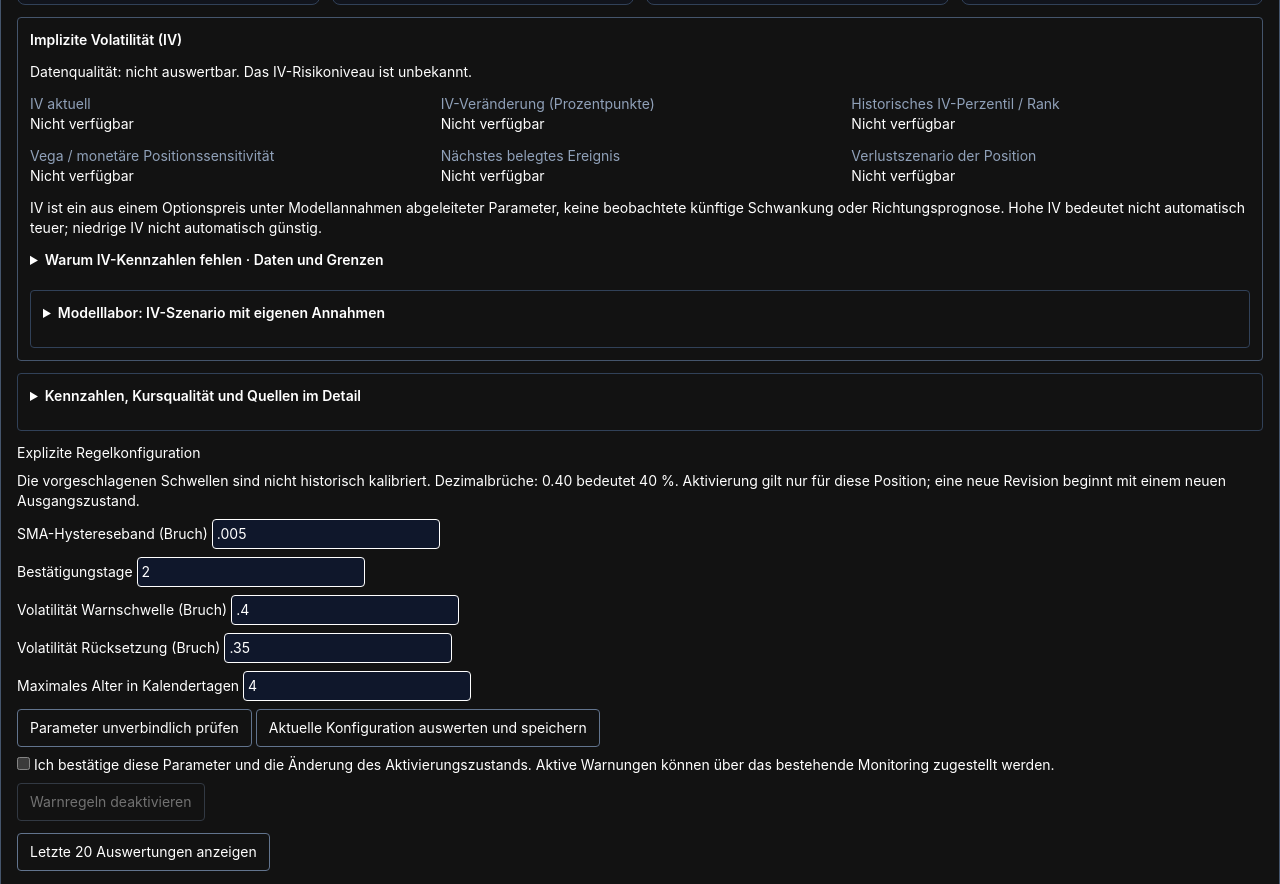
qualified risk panel › reports command failures and supports explicit deactivation
The image size is (1280, 884).
(page scrolled)
Click the checkbox. click: [24, 764]
box: [17,757,30,770]
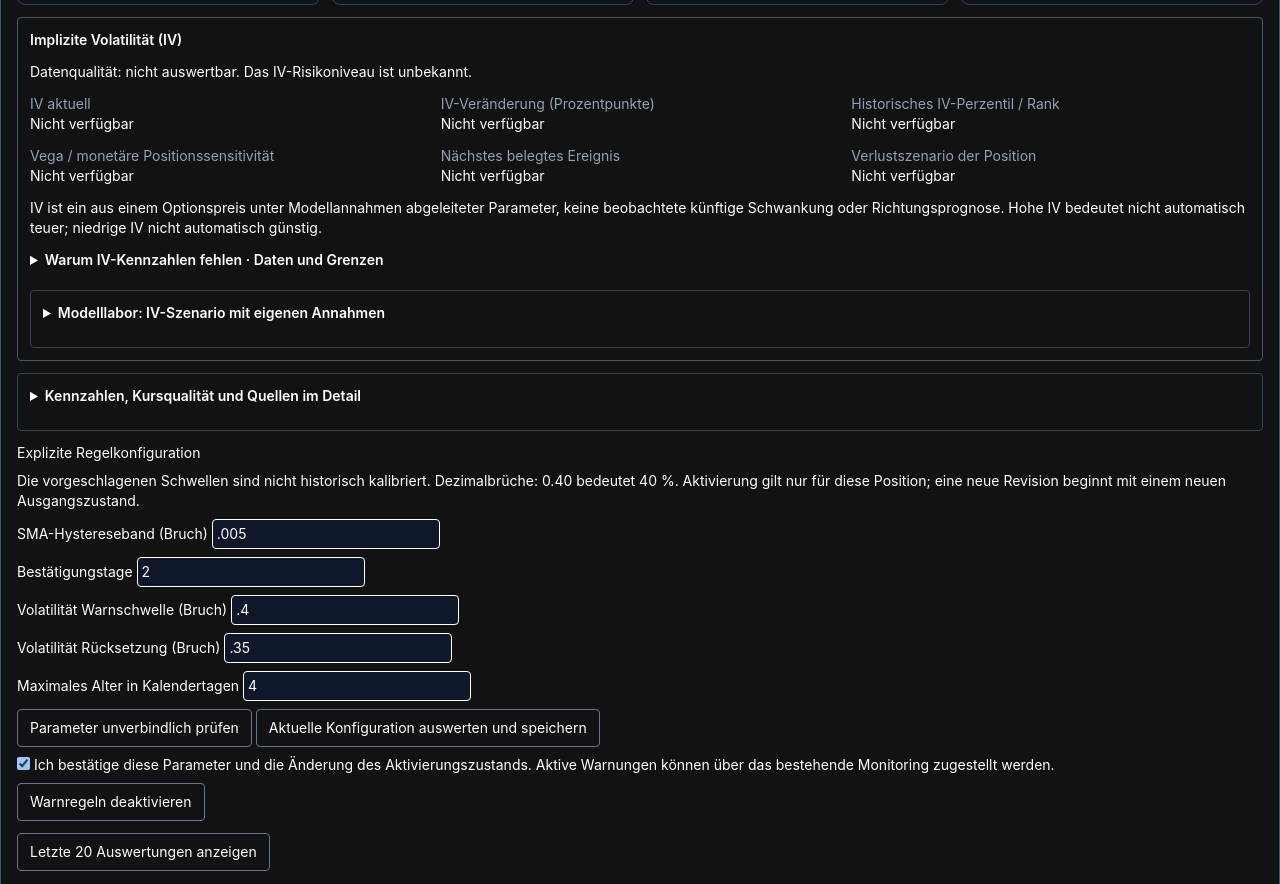
Click the button "Warnregeln deaktivieren". click: [111, 802]
box: [17,783,204,821]
(page scrolled)
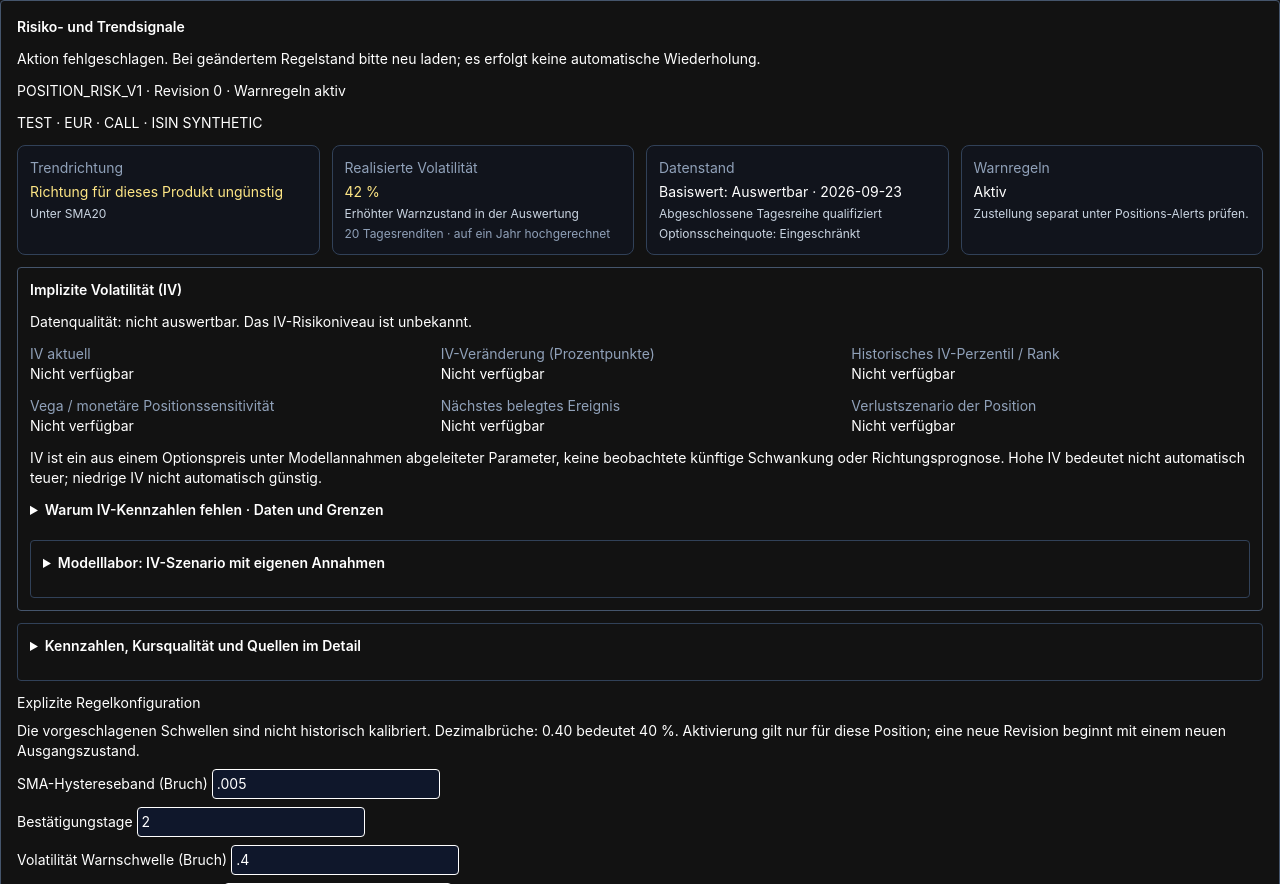
expect the message is shown: met, box [17,50,761,67]
